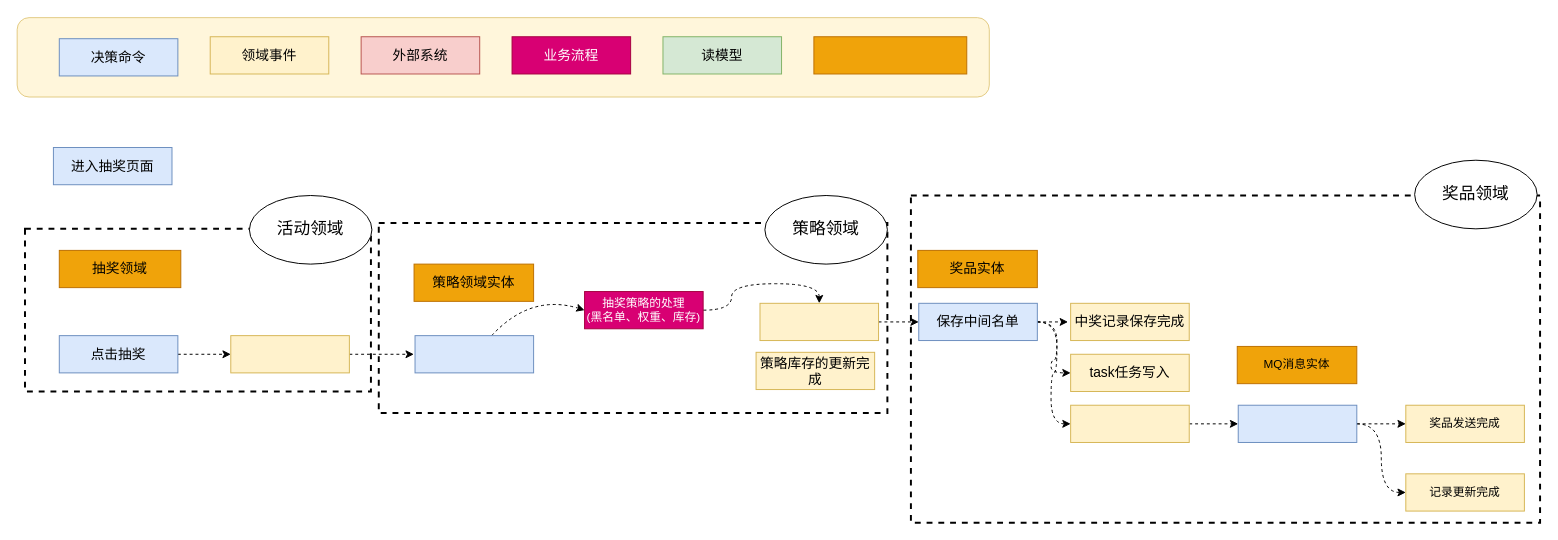
The diagram is 1558 pixels wide and 540 high, and some of its shapes have lost their labels. The shapes that lost their labels are listed below. From the top down, each one's box as (x1, y1, x2, y2) in pixels, then its label:
(813, 36, 967, 74): 领域对象 entity、valobj、aggregate
(759, 302, 879, 341): 抽奖策略的计算
(230, 335, 349, 373): 抽奖单的创建
(414, 335, 534, 373): 抽奖策略计算
(1070, 404, 1189, 442): MQ消息发送完成
(1237, 404, 1357, 442): 接收异步消息
